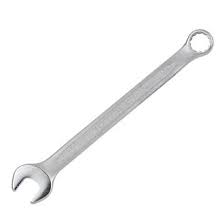wrench: (6, 25, 224, 207)
